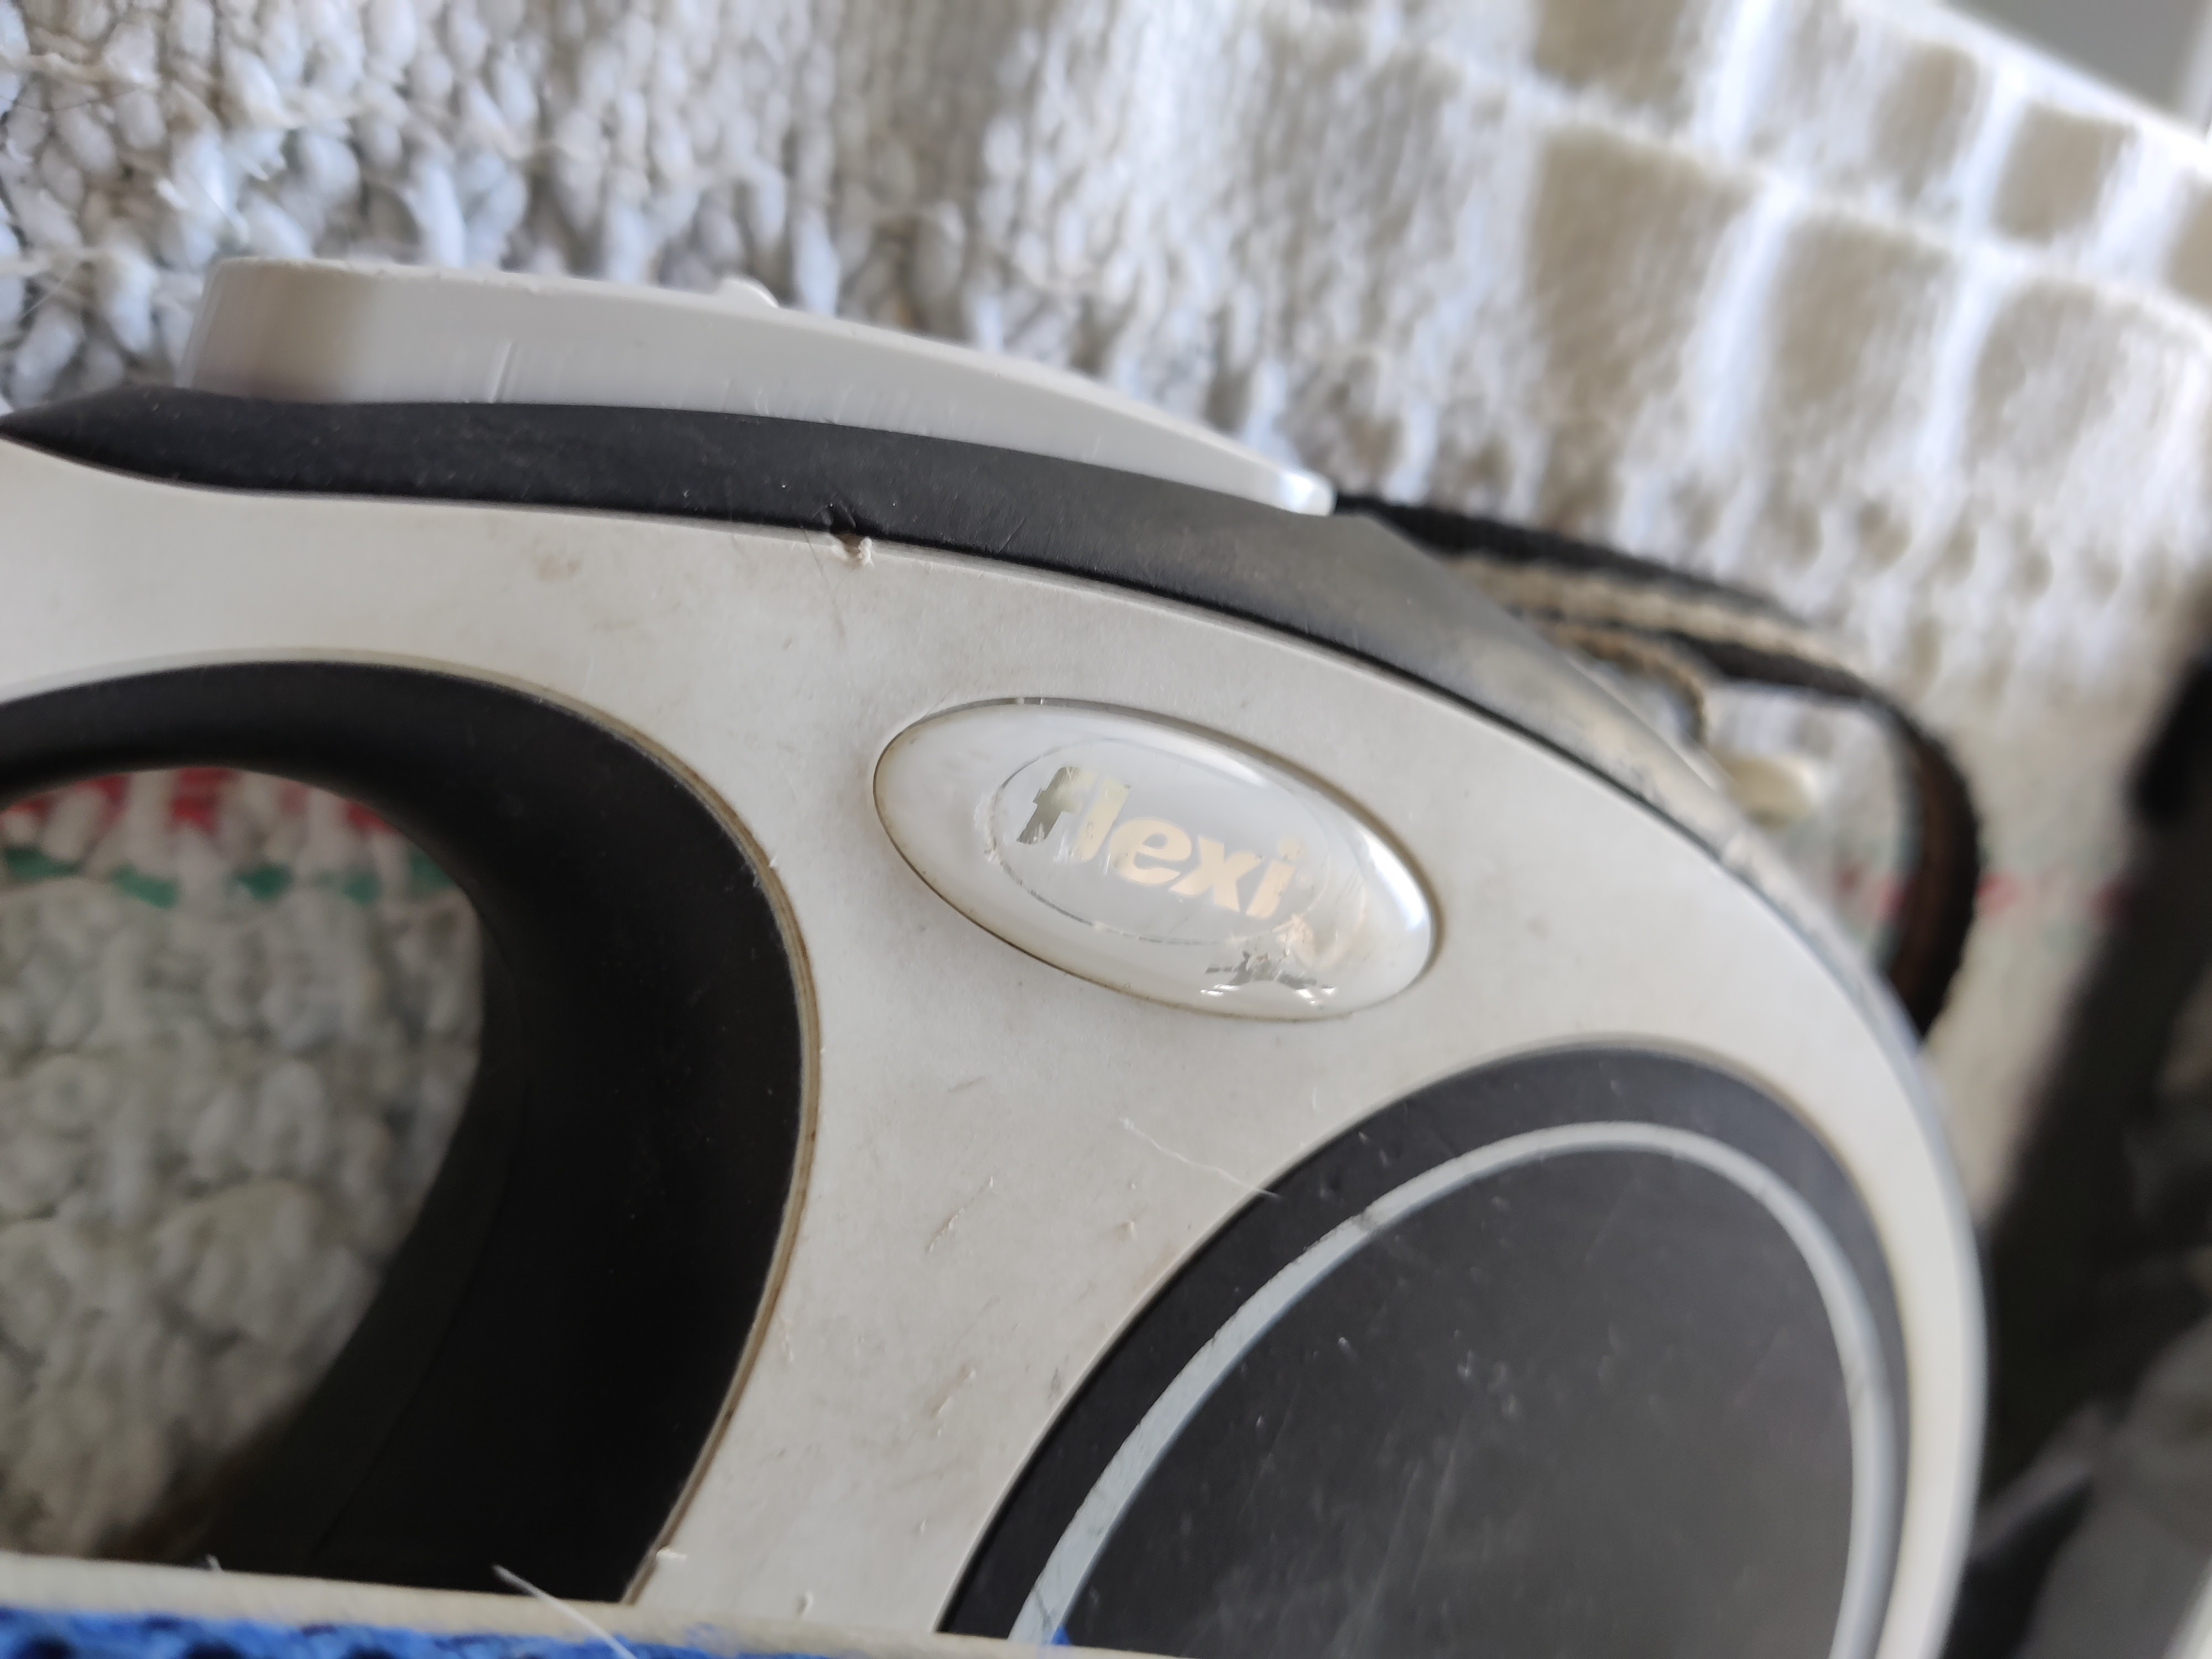Dog: (1198, 911, 1339, 1004)
